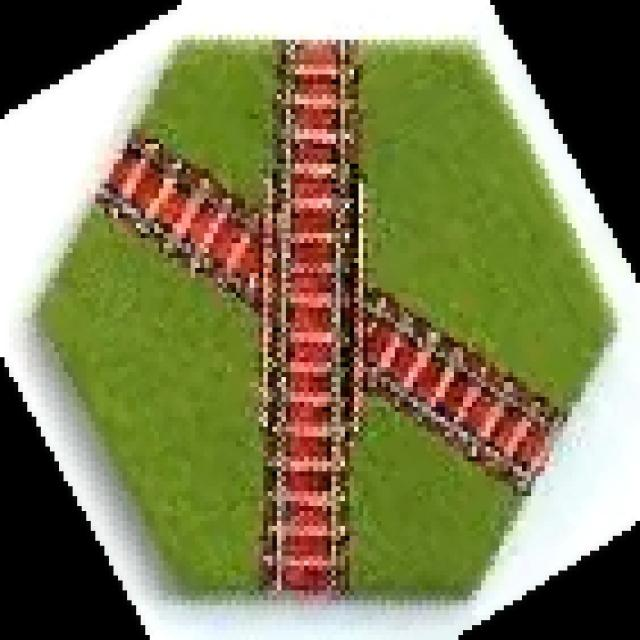9_2: (34, 37, 617, 599)
